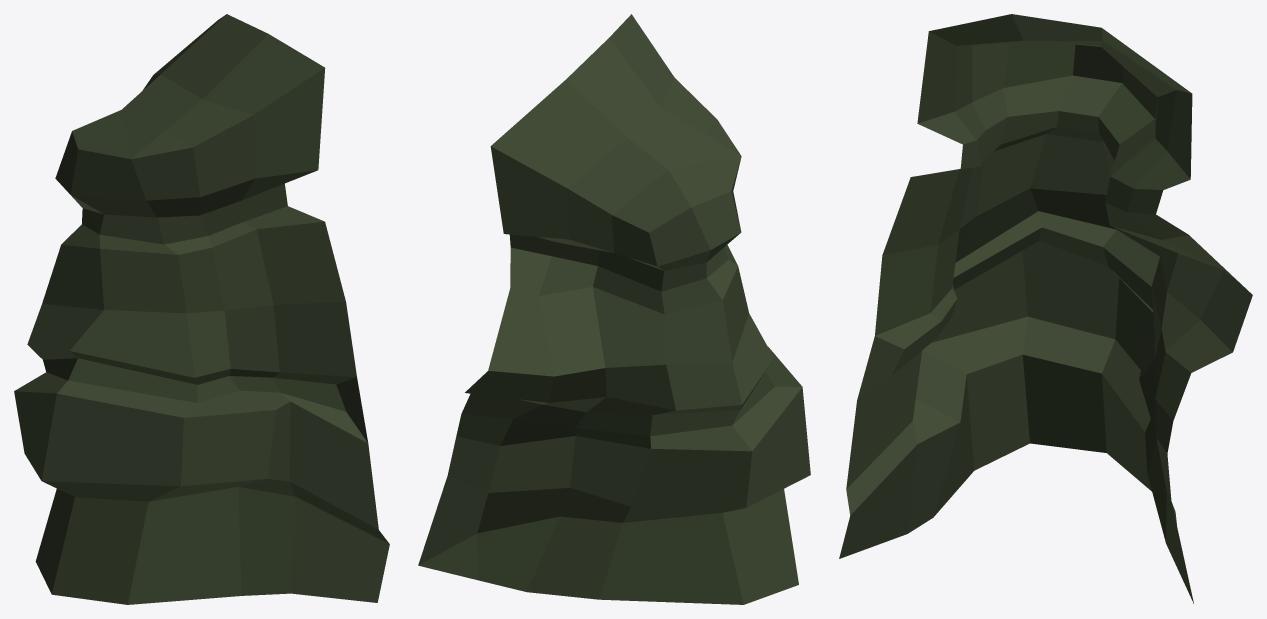
Rendered from EA_Swamp_Island_Part_01a.glb.
3 views of the same model, side by side, from view 1: azimuth 30°, elevation 25°; view 2: azimuth 150°, elevation 25°; view 3: azimuth 270°, elevation 25° (orthographic). The views are drawn at different scales.
Visible parts, largest first — view 1: EA_Swamp_Island_Part_01a; view 2: EA_Swamp_Island_Part_01a; view 3: EA_Swamp_Island_Part_01a.
Boxes of the visible parts, <box> form: EA_Swamp_Island_Part_01a: <box>14,14,389,604</box>; EA_Swamp_Island_Part_01a: <box>418,14,810,604</box>; EA_Swamp_Island_Part_01a: <box>839,14,1252,603</box>.
Bounding box in the file's own units: 6.47 × 9.76 × 6.76.
Materials: 1 (1 with a texture image).
